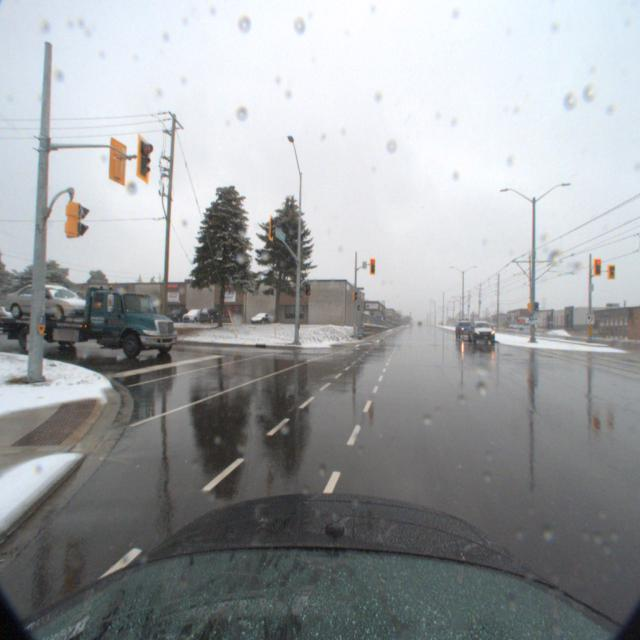Car: (467, 317, 499, 342), (454, 314, 476, 337), (197, 301, 224, 318), (178, 302, 206, 318), (248, 306, 274, 320)
